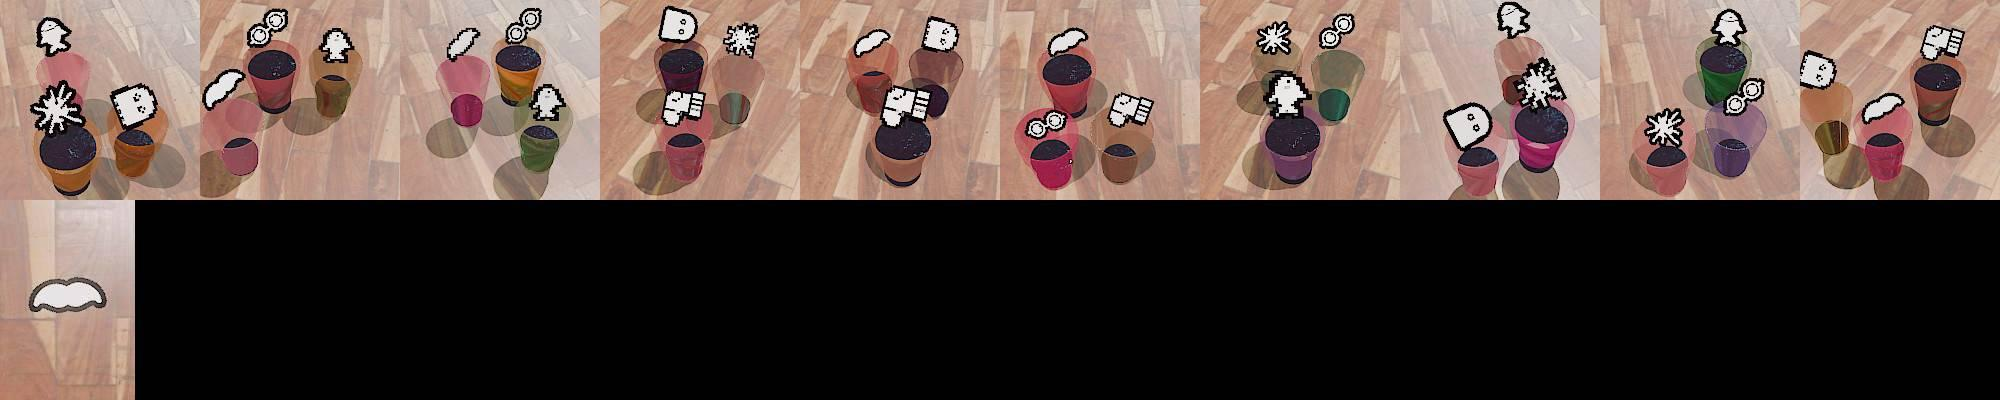icon: (28, 80, 85, 136), (28, 275, 108, 315), (1514, 56, 1566, 112), (1441, 101, 1494, 150), (1264, 70, 1314, 118), (108, 83, 159, 129), (881, 85, 929, 125), (202, 69, 245, 111), (1105, 92, 1153, 129), (1644, 106, 1685, 149), (1723, 75, 1767, 116), (659, 88, 705, 125), (657, 5, 699, 45), (1798, 48, 1838, 90), (246, 9, 290, 47), (1709, 8, 1749, 48), (34, 17, 73, 59), (1920, 24, 1963, 61), (1858, 90, 1906, 124), (528, 82, 566, 122), (921, 15, 960, 54), (1316, 13, 1355, 51), (722, 20, 760, 59), (319, 25, 356, 64), (506, 8, 542, 47), (1496, 0, 1532, 39), (1046, 27, 1089, 57), (445, 25, 481, 61), (1256, 20, 1292, 56), (1024, 110, 1066, 139), (852, 28, 892, 56)
